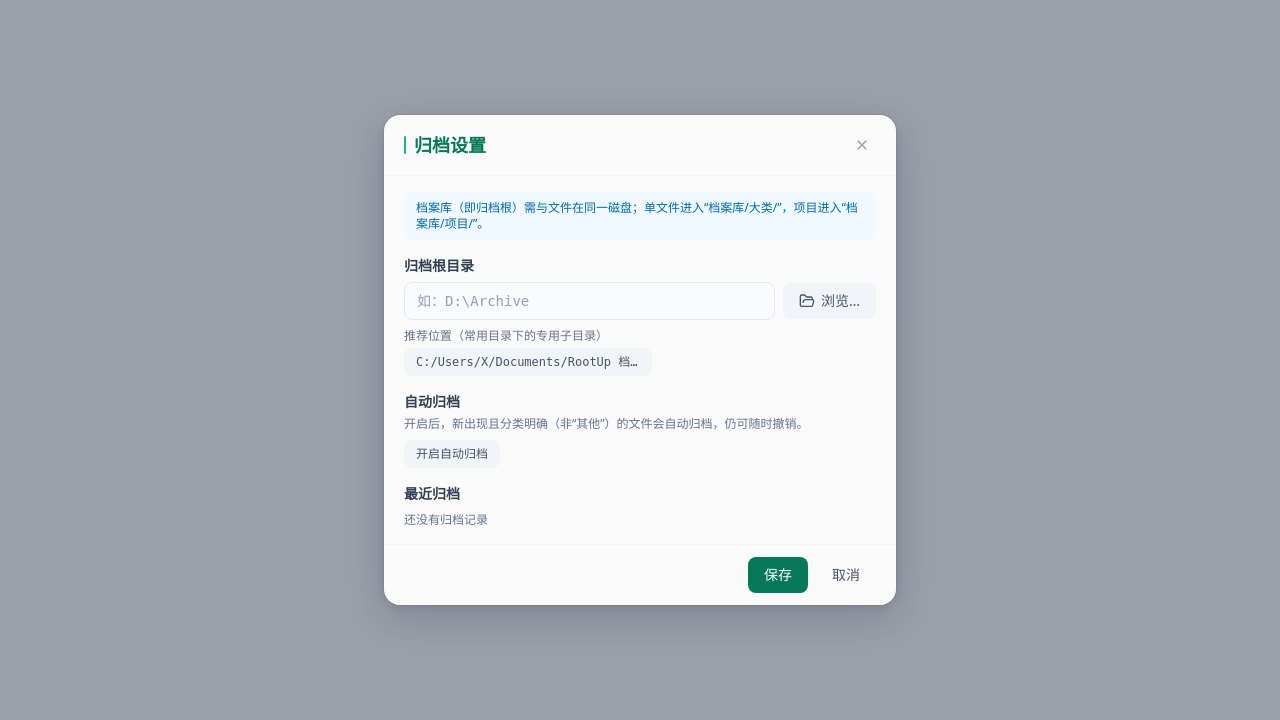
ArchiveSettingsDialog › 推荐位置候选点击回填输入框
Step 1. Click the button "C:/Users/X/Documents/RootUp 档案库" → (528, 362), box [404,348,652,376]
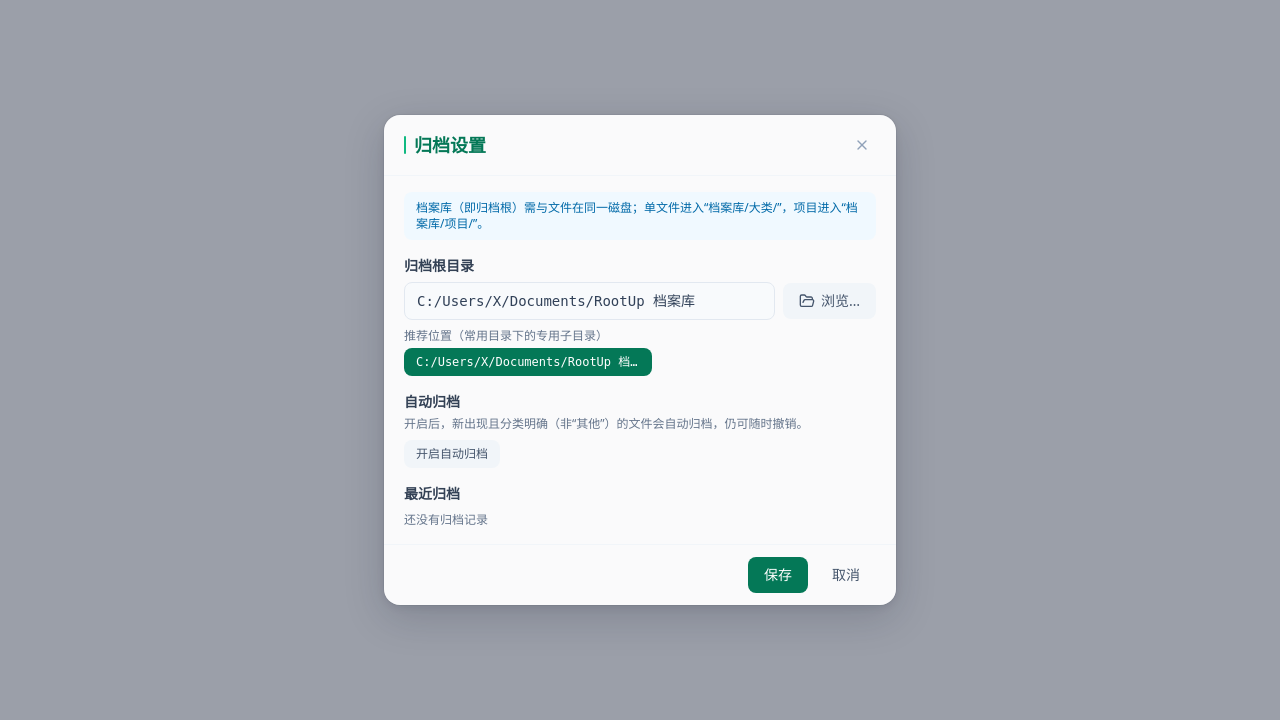
Result: the field with placeholder "如：D:\\Archive" holds "C:/Users/X/Documents/RootUp 档案库" at [404,282,775,320]
